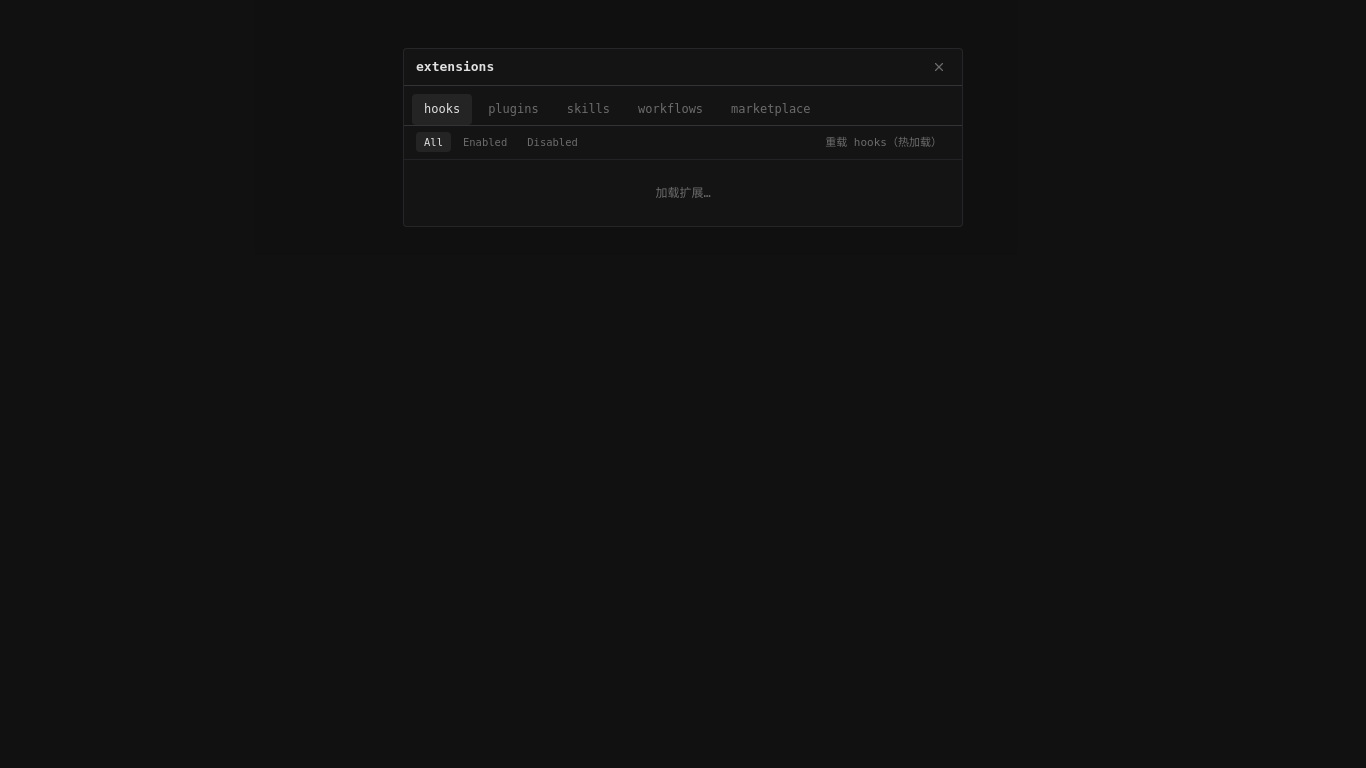
Test: ExtensionsModal › agent skills 加载失败 → 提示横幅（本地结果仍显示）
Click the button "skills". click: (588, 109)
box: [555,94,622,125]
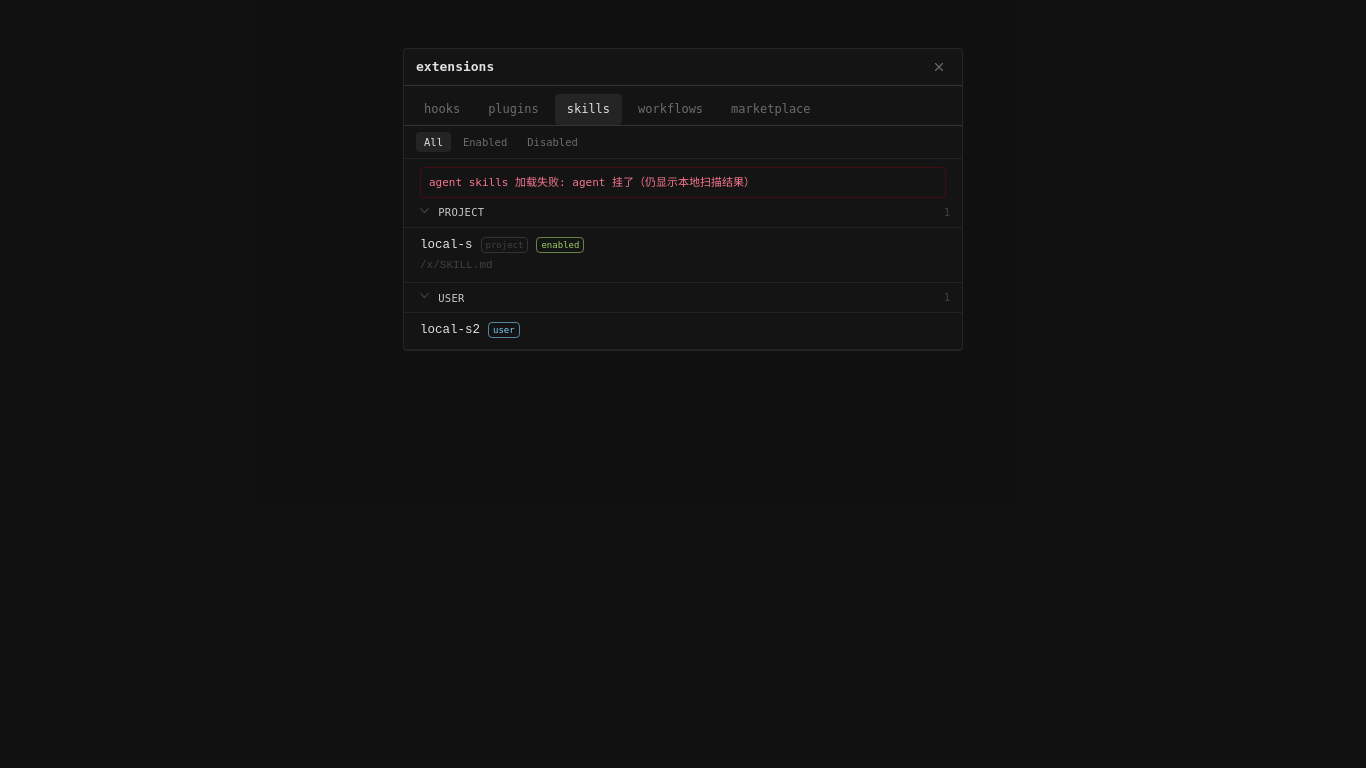
Expected: the text "agent skills 加载失败: agent 挂了（仍显示本地扫描结果）" is shown, [420,167,946,198]
Expected: the text "local-s" is shown, [420,236,472,255]
